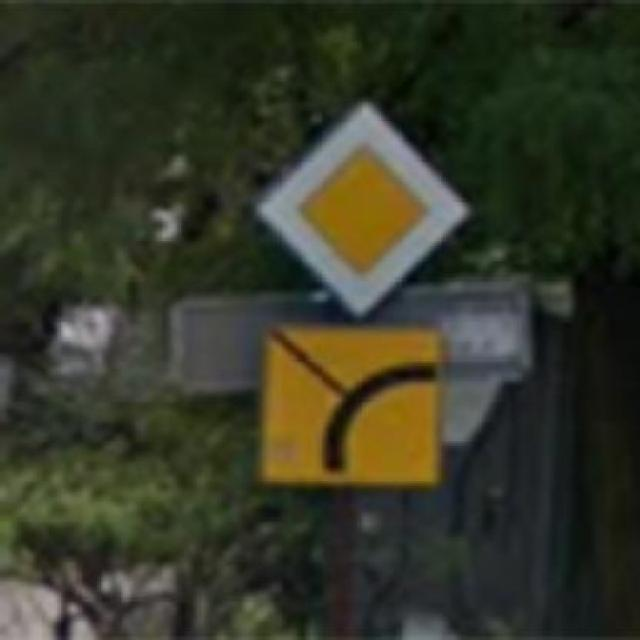Droga z pierwszenstwem: (252, 95, 474, 320)
